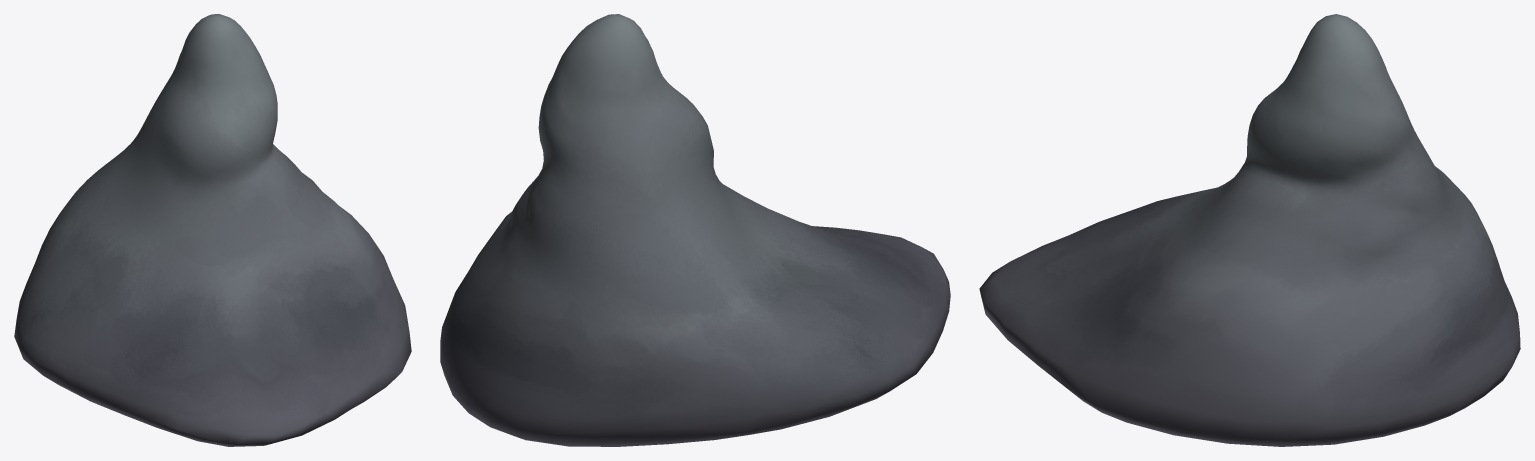
File: Stalac3.fbx
The picture shows the model from 3 angles, left to right: view 1: azimuth 30°, elevation 25°; view 2: azimuth 150°, elevation 25°; view 3: azimuth 270°, elevation 25°; orthographic projection. The views are drawn at different scales.
Parts seen in each view (by area): view 1: Stalac3; view 2: Stalac3; view 3: Stalac3.
Boxes of the visible parts, <box> form: Stalac3: <box>14,14,411,446</box>; Stalac3: <box>440,14,950,446</box>; Stalac3: <box>979,14,1520,446</box>.
Bounding box in the file's own units: 141 × 120 × 160.
1 material, 1 textured.
